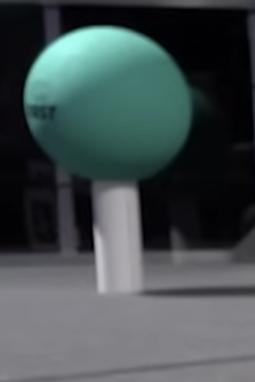algae: (25, 26, 191, 182)
coral: (88, 182, 145, 295)
